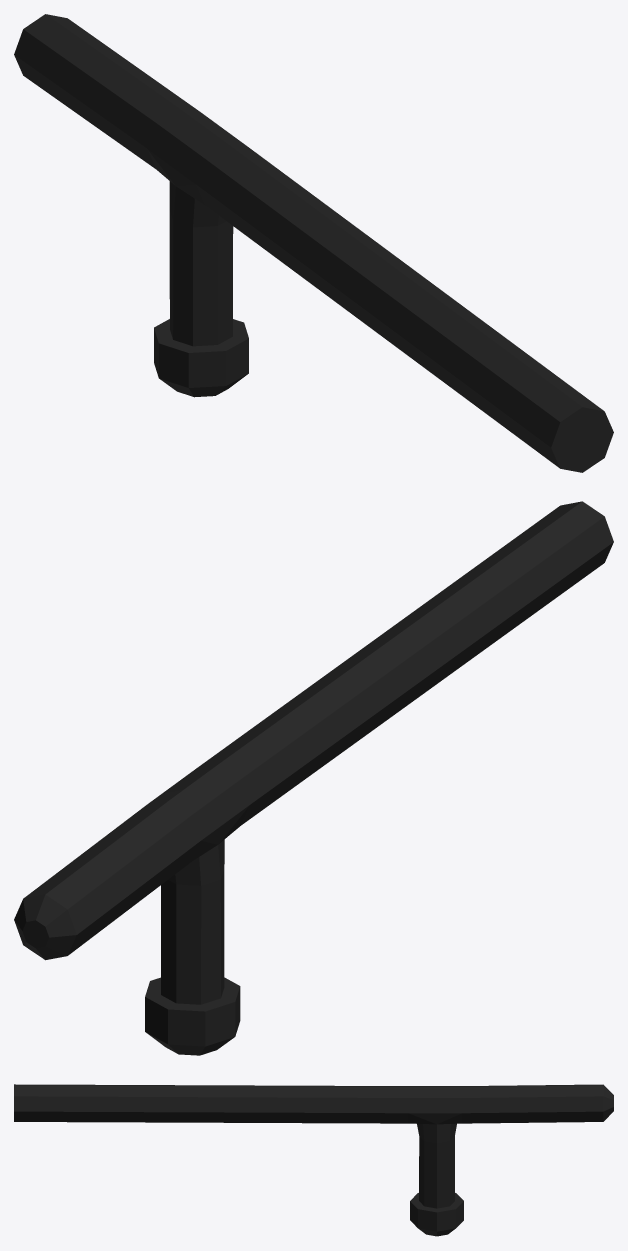
The model's file is Police_M_Baton.fbx.
3 views of the same model, one above another, from view 1: azimuth 30°, elevation 25°; view 2: azimuth 150°, elevation 25°; view 3: azimuth 270°, elevation 25° (orthographic). The views are drawn at different scales.
Parts seen in each view (by area): view 1: Police_M_Baton; view 2: Police_M_Baton; view 3: Police_M_Baton.
Part boxes in pixels (<box>): Police_M_Baton: <box>14,14,613,472</box>; Police_M_Baton: <box>14,501,613,1055</box>; Police_M_Baton: <box>14,1084,613,1236</box>.
Bounding box in the file's own units: 5.63 × 16.51 × 62.51.
